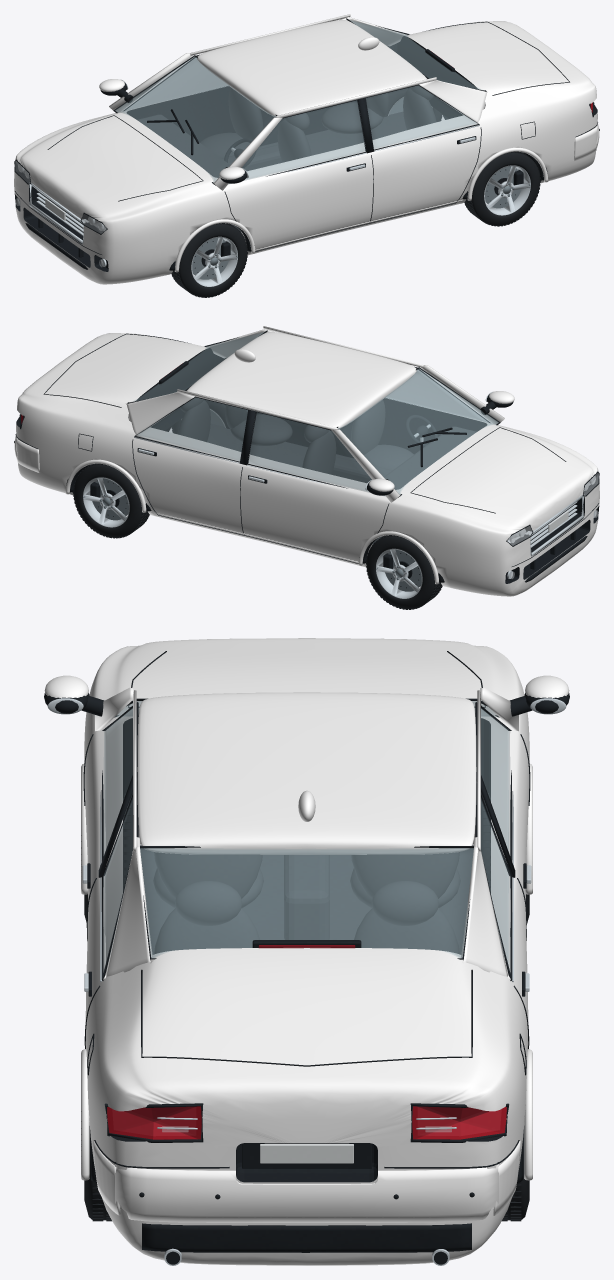
File: sedan.glb
3 renders of one model, top to bottom at view 1: azimuth 30°, elevation 25°; view 2: azimuth 150°, elevation 25°; view 3: azimuth 270°, elevation 25°, orthographic. The views are drawn at different scales.
Visible parts, largest first — view 1: Watertight 14-station body shell, Crowned roof pressing, Raked laminated windshield, Front side door glass, Rear side door glass, 107 reused Sculpted_tyre, 107 reused Sculpted_tyre.002, Sloping rear glass, Front side door glass.001, Instrument panel, Cabin carpet, Surface integrated sedan rear roof pillar (+21 smaller); view 2: Watertight 14-station body shell, Crowned roof pressing, Raked laminated windshield, Front side door glass.001, Rear side door glass.001, 107 reused Sculpted_tyre.001, 107 reused Sculpted_tyre.003, Sloping rear glass, Front side door glass, Instrument panel, Cabin carpet, Surface integrated sedan rear roof pillar.001 (+21 smaller); view 3: Watertight 14-station body shell, Crowned roof pressing, Sloping rear glass, Formed painted rear bumper cover, Sculpted rear lower bumper insert, Cabin carpet, Center console, Contoured seat back, Contoured seat back.001, Surface integrated sedan rear roof pillar.001, Surface integrated sedan rear roof pillar, Contoured seat back.002 (+21 smaller).
Part boxes in pixels (x1,y1,x2,y2): Watertight 14-station body shell: (14,21,597,284); Crowned roof pressing: (197,20,426,116); Raked laminated windshield: (115,56,275,182); Front side door glass: (228,100,365,184); Rear side door glass: (366,85,477,149); 107 reused Sculpted_tyre: (172,223,247,297); 107 reused Sculpted_tyre.002: (465,151,539,225); Sloping rear glass: (350,20,481,89); Front side door glass.001: (127,58,227,109); Instrument panel: (137,114,229,177); Cabin carpet: (223,112,406,240); Surface integrated sedan rear roof pillar: (419,80,487,122); Watertight 14-station body shell: (16,333,599,596); Crowned roof pressing: (187,332,416,428); Raked laminated windshield: (338,368,498,494); Front side door glass.001: (248,412,385,496); Rear side door glass.001: (136,397,247,461); 107 reused Sculpted_tyre.001: (366,535,441,609); 107 reused Sculpted_tyre.003: (73,464,148,537); Sloping rear glass: (132,332,263,401); Front side door glass: (386,370,486,421); Instrument panel: (384,426,476,489); Cabin carpet: (207,424,390,552); Surface integrated sedan rear roof pillar.001: (126,392,194,434); Watertight 14-station body shell: (84,638,529,1265); Crowned roof pressing: (137,692,476,854); Sloping rear glass: (140,848,473,958); Formed painted rear bumper cover: (115,1164,498,1222); Sculpted rear lower bumper insert: (142,1223,471,1252); Cabin carpet: (140,845,473,954); Center console: (284,855,329,939); Contoured seat back: (154,852,262,898); Contoured seat back.001: (351,852,459,898); Surface integrated sedan rear roof pillar.001: (461,837,507,976); Surface integrated sedan rear roof pillar: (106,837,152,976); Contoured seat back.002: (154,908,259,953).
Bounding box in the file's own units: 4.84 × 1.55 × 2.18.
10 materials, 9 textured.
